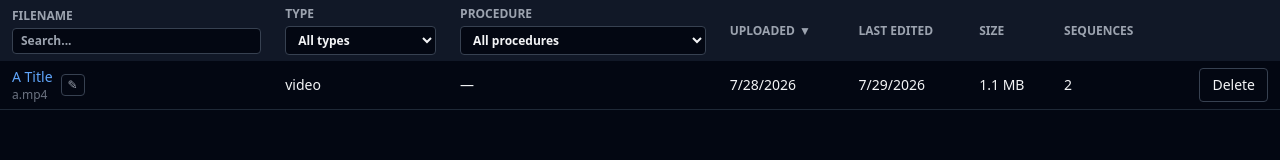
Test case: MediaLibraryTable › shows the backend's 409 message inline when delete is blocked by linked sequences
Expected: the text "a.mp4" is shown, [12,87,52,103]
Click the button "Delete" at (1234, 85), box [1199,68,1268,102]
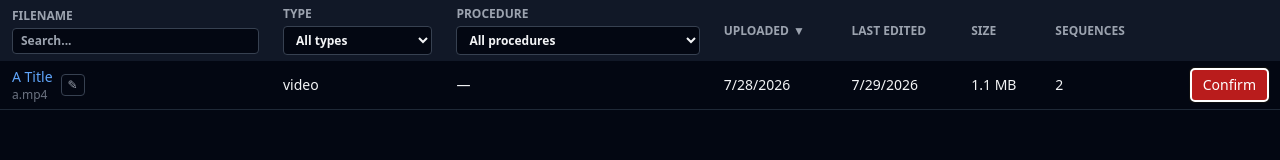
Click the button "Confirm" at (1229, 85), box [1191,69,1268,101]
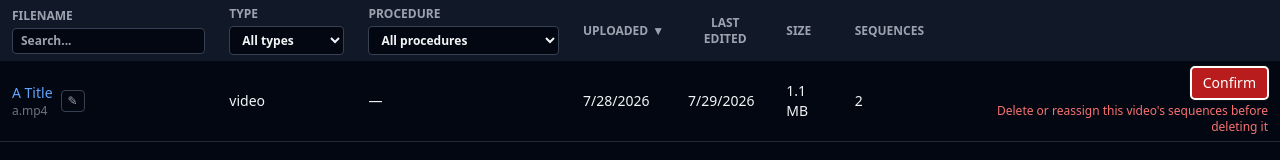
Expected: the text "Delete or reassign this video's sequences before deleting it" is shown, [997,102,1268,135]
